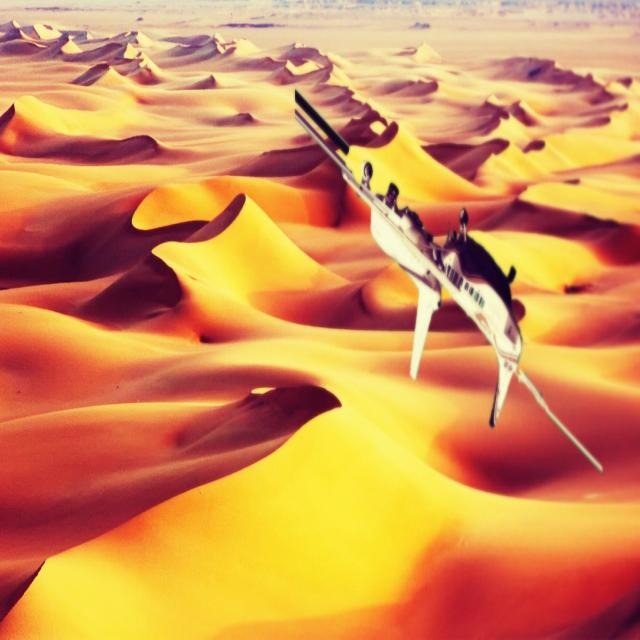airplane: (293, 87, 603, 474)
